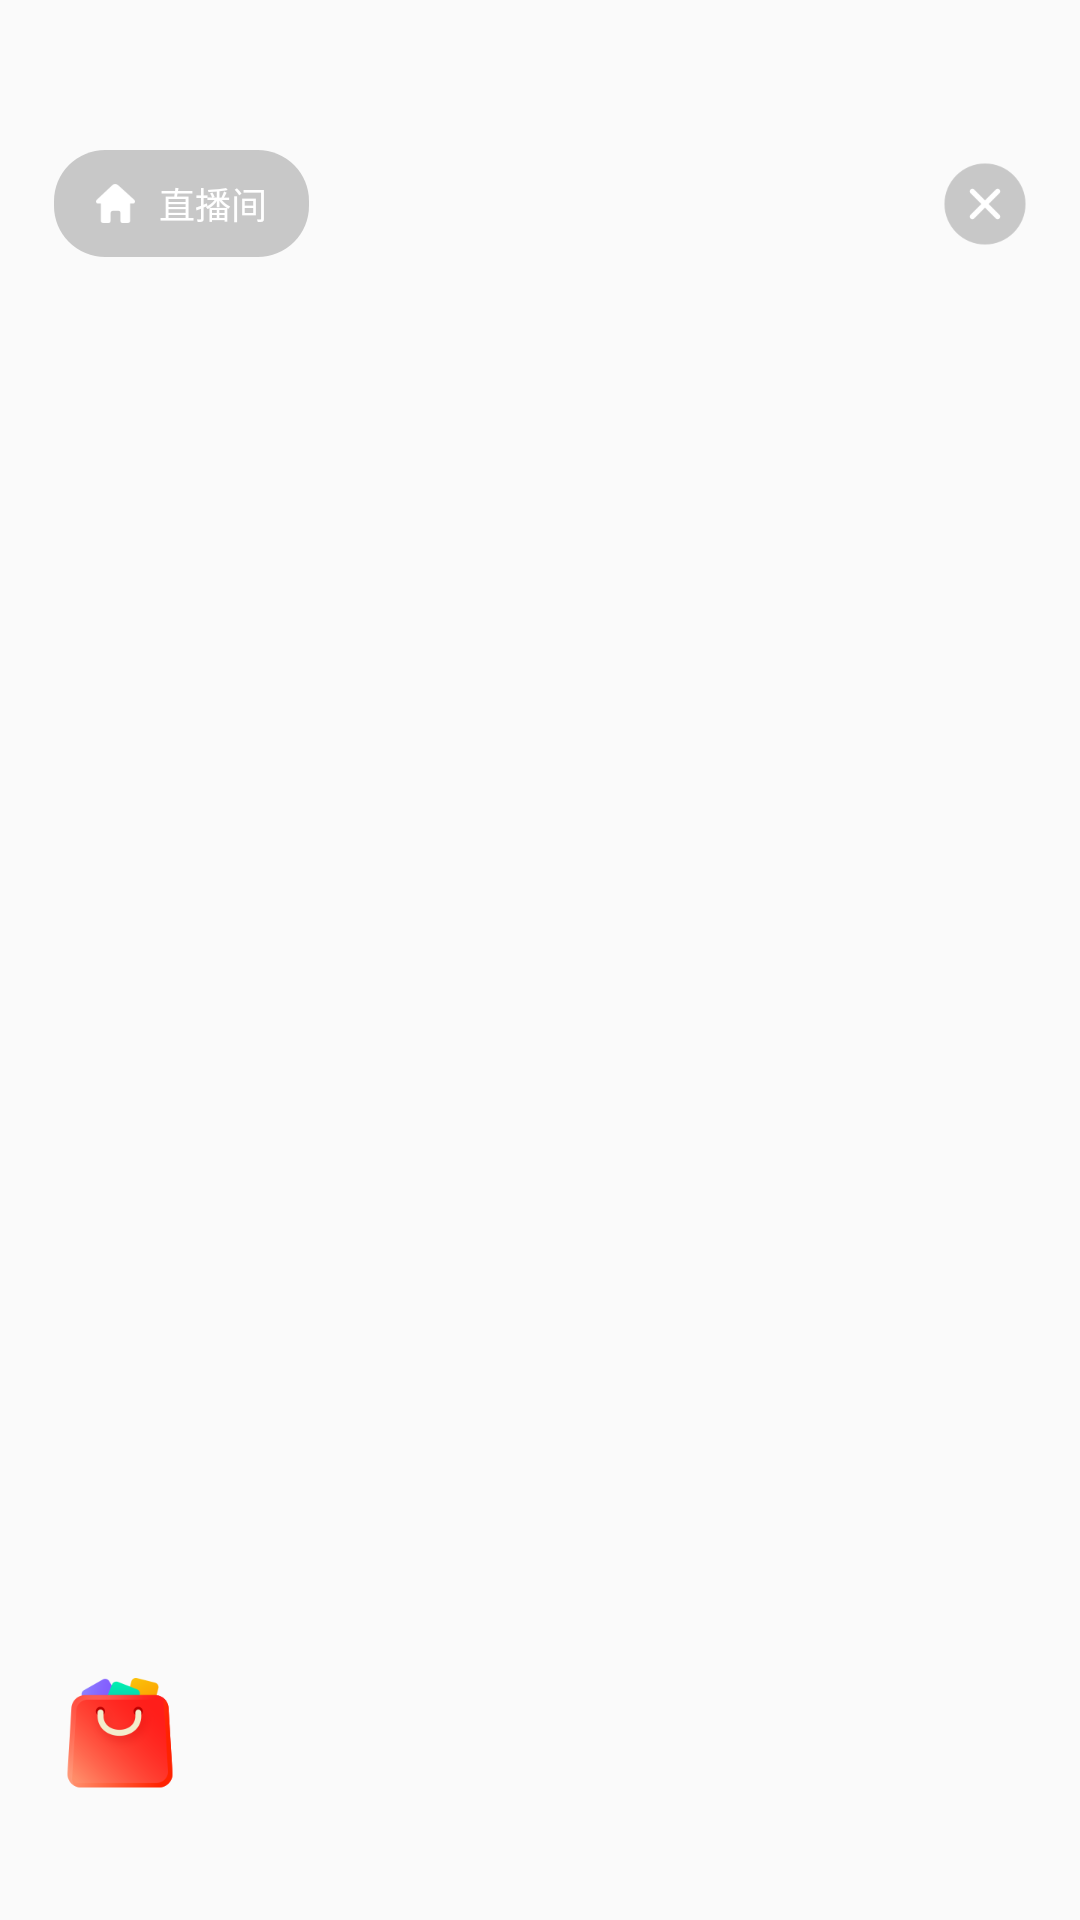

Point at icon controls on the screen. Image size 1080px x 1920px, points as (x,y).
bag: (120,1733)
close: (985,204)
home: (115,203)
